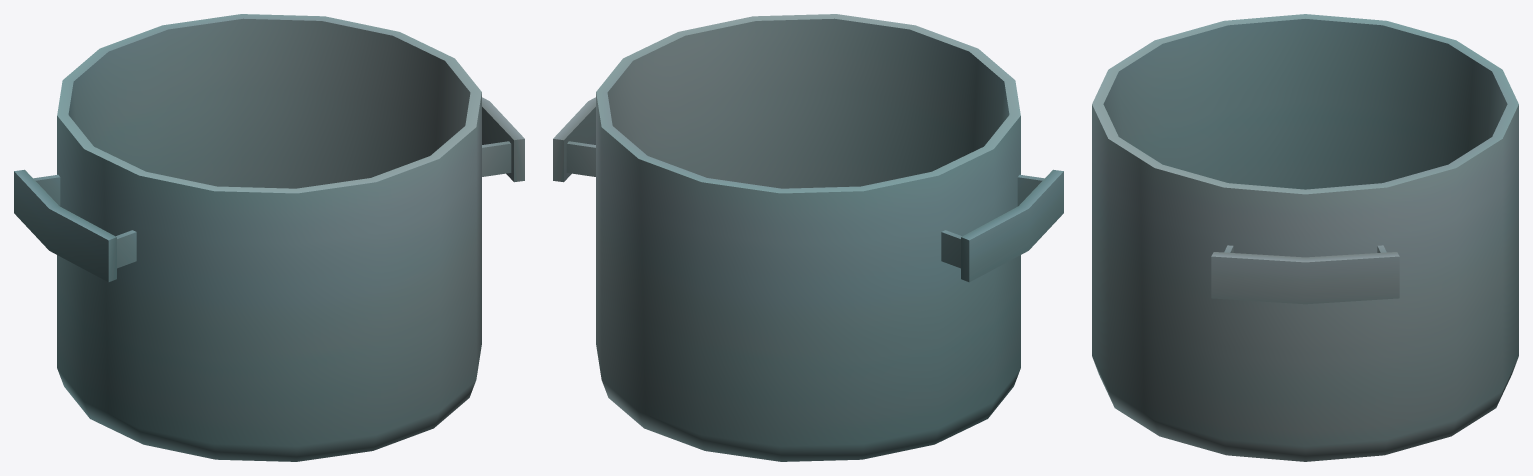
The model's file is pot.glb.
3 renders of one model, left to right at view 1: azimuth 30°, elevation 25°; view 2: azimuth 150°, elevation 25°; view 3: azimuth 270°, elevation 25°, orthographic.
Parts seen in each view (by area): view 1: pot3; view 2: pot3; view 3: pot3.
Part boxes in pixels (x1=…): pot3: x1=14, y1=14, x2=524, y2=461; pot3: x1=553, y1=14, x2=1063, y2=461; pot3: x1=1092, y1=14, x2=1518, y2=461.
Bounding box in the file's own units: 0.25 × 0.1506 × 0.2105.
Materials: 1 (1 with a texture image).
